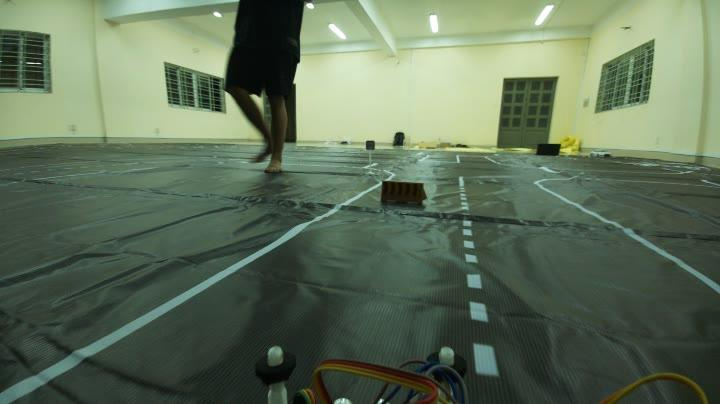roadblock: (375, 174, 434, 212)
